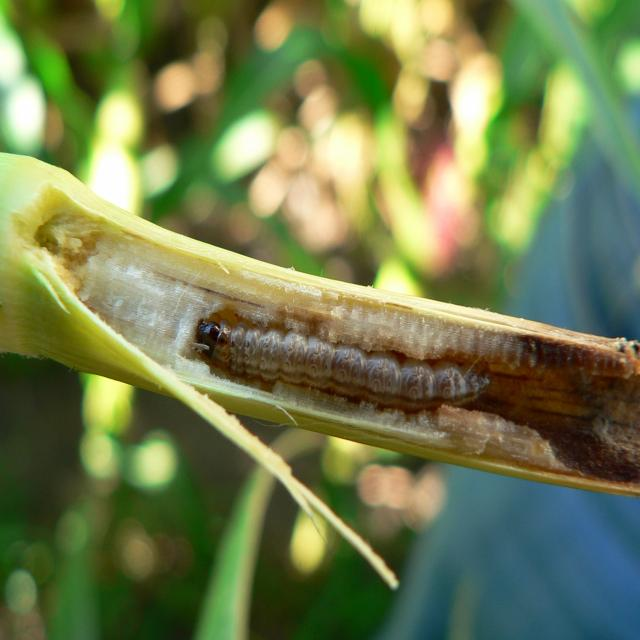cornborer-Larva-: (193, 307, 508, 434)
